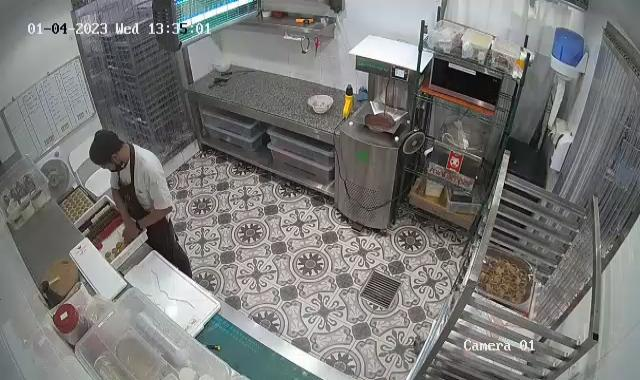no_hairnet: (88, 128, 123, 164)
